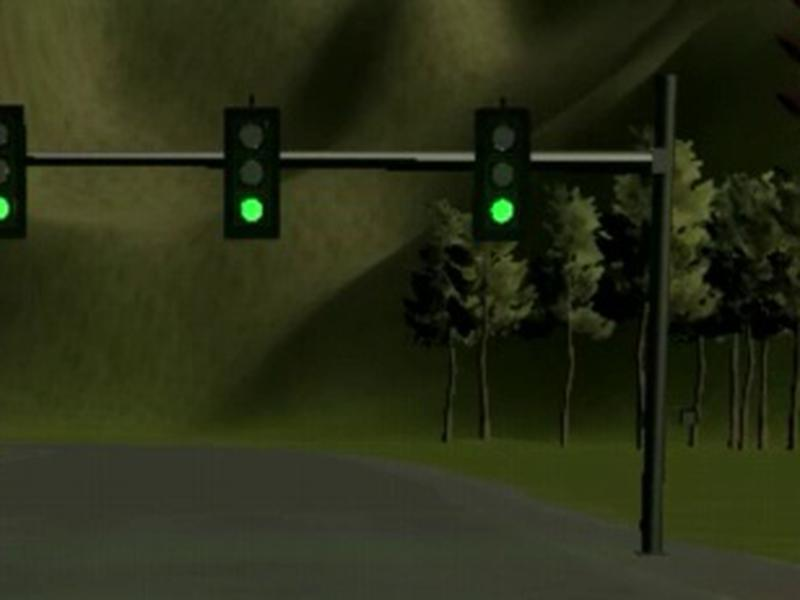Green: (473, 106, 530, 239), (223, 106, 279, 239), (1, 102, 30, 237)
